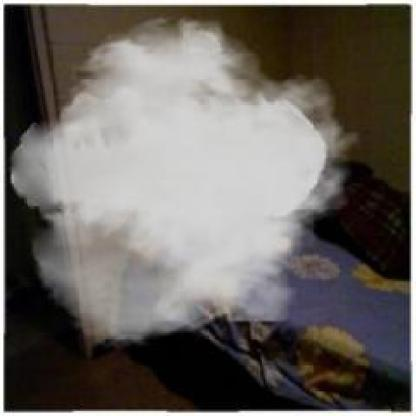Smoke: (9, 13, 362, 351)
